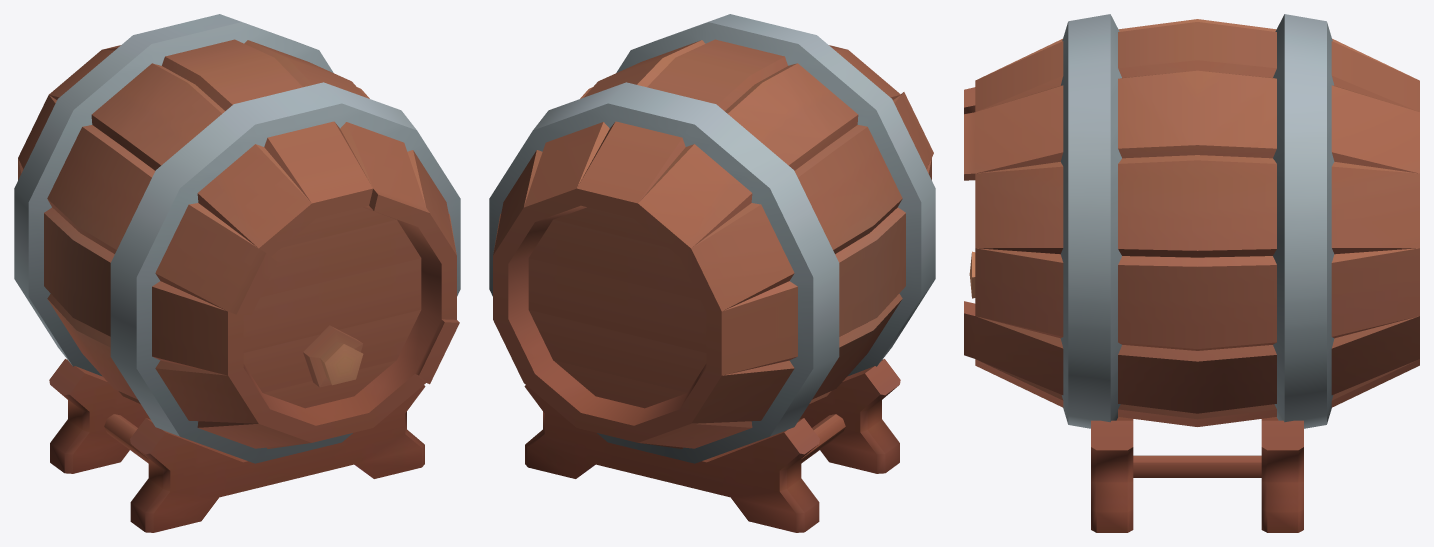
File: keg.glb
3 renders of one model, left to right at view 1: azimuth 30°, elevation 25°; view 2: azimuth 150°, elevation 25°; view 3: azimuth 270°, elevation 25°, orthographic. The views are drawn at different scales.
Visible parts, largest first — view 1: keg; view 2: keg; view 3: keg.
Part boxes in pixels (bbox=[...]): keg: bbox=[14, 14, 460, 532]; keg: bbox=[489, 14, 935, 532]; keg: bbox=[964, 14, 1419, 532].
Bounding box in the file's own units: 1.8 × 2.05 × 2.
1 material, 1 textured.
